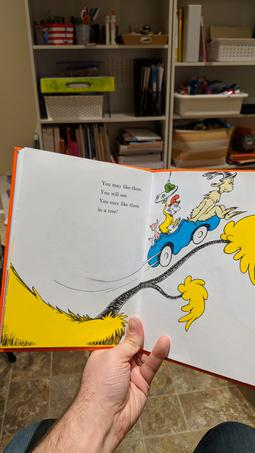text block: (87, 173, 146, 219)
